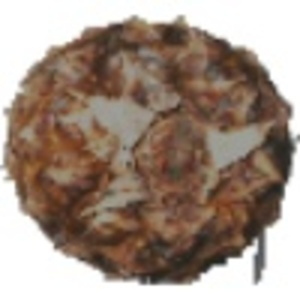abacaxi: (4, 19, 297, 286)
